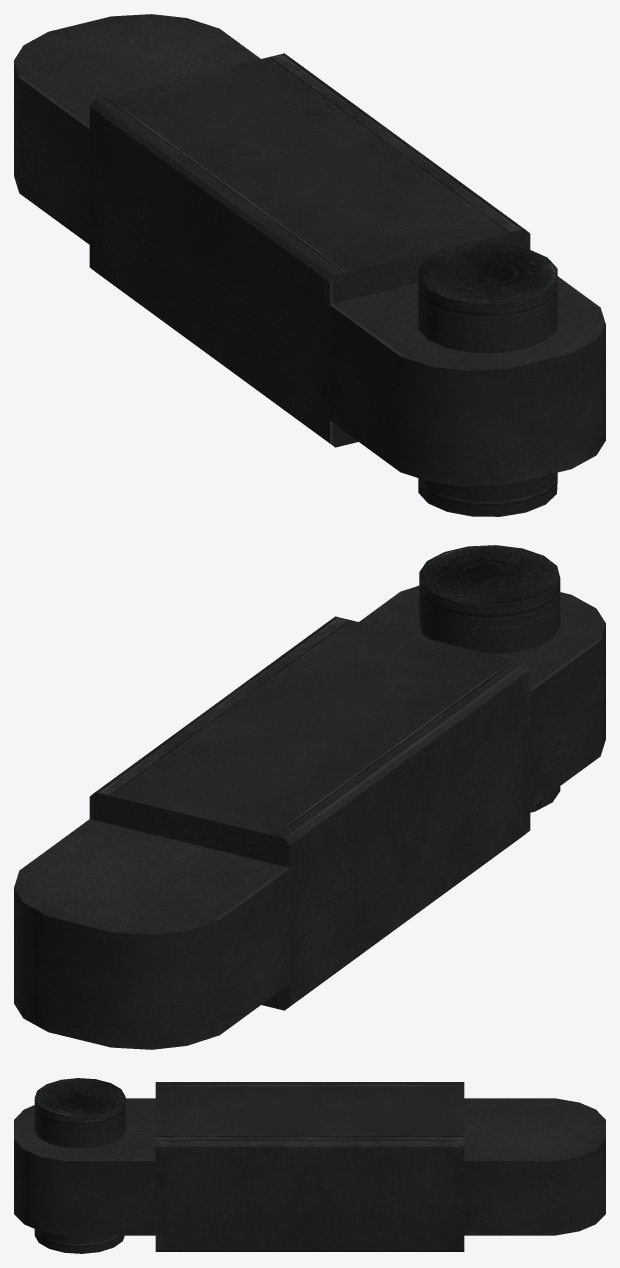
File: wall_mount_arm-2.FBX
The picture shows the model from 3 angles, top to bottom: view 1: azimuth 30°, elevation 25°; view 2: azimuth 150°, elevation 25°; view 3: azimuth 270°, elevation 25°; orthographic projection. The views are drawn at different scales.
Parts seen in each view (by area): view 1: arm-2_LOD0; view 2: arm-2_LOD0; view 3: arm-2_LOD0.
Boxes of the visible parts, left/top/right/bottom form: arm-2_LOD0: left=14, top=14, right=605, bottom=516; arm-2_LOD0: left=14, top=545, right=605, bottom=1049; arm-2_LOD0: left=14, top=1078, right=605, bottom=1253.
Size of what is drawn, in the model's own units: 2.92 by 2.97 by 11.6.
